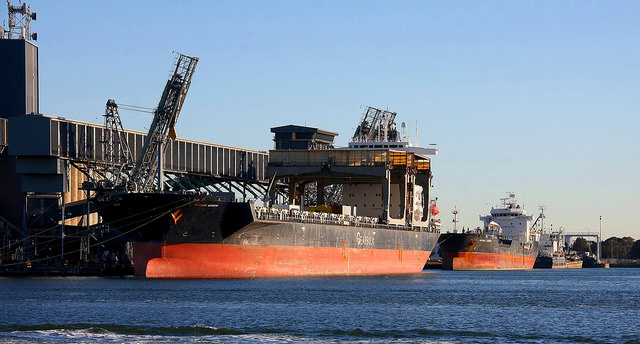bulk carrier: (118, 133, 436, 277), (439, 193, 538, 269)
